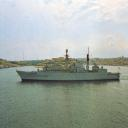Fragata: (17, 46, 122, 84)
